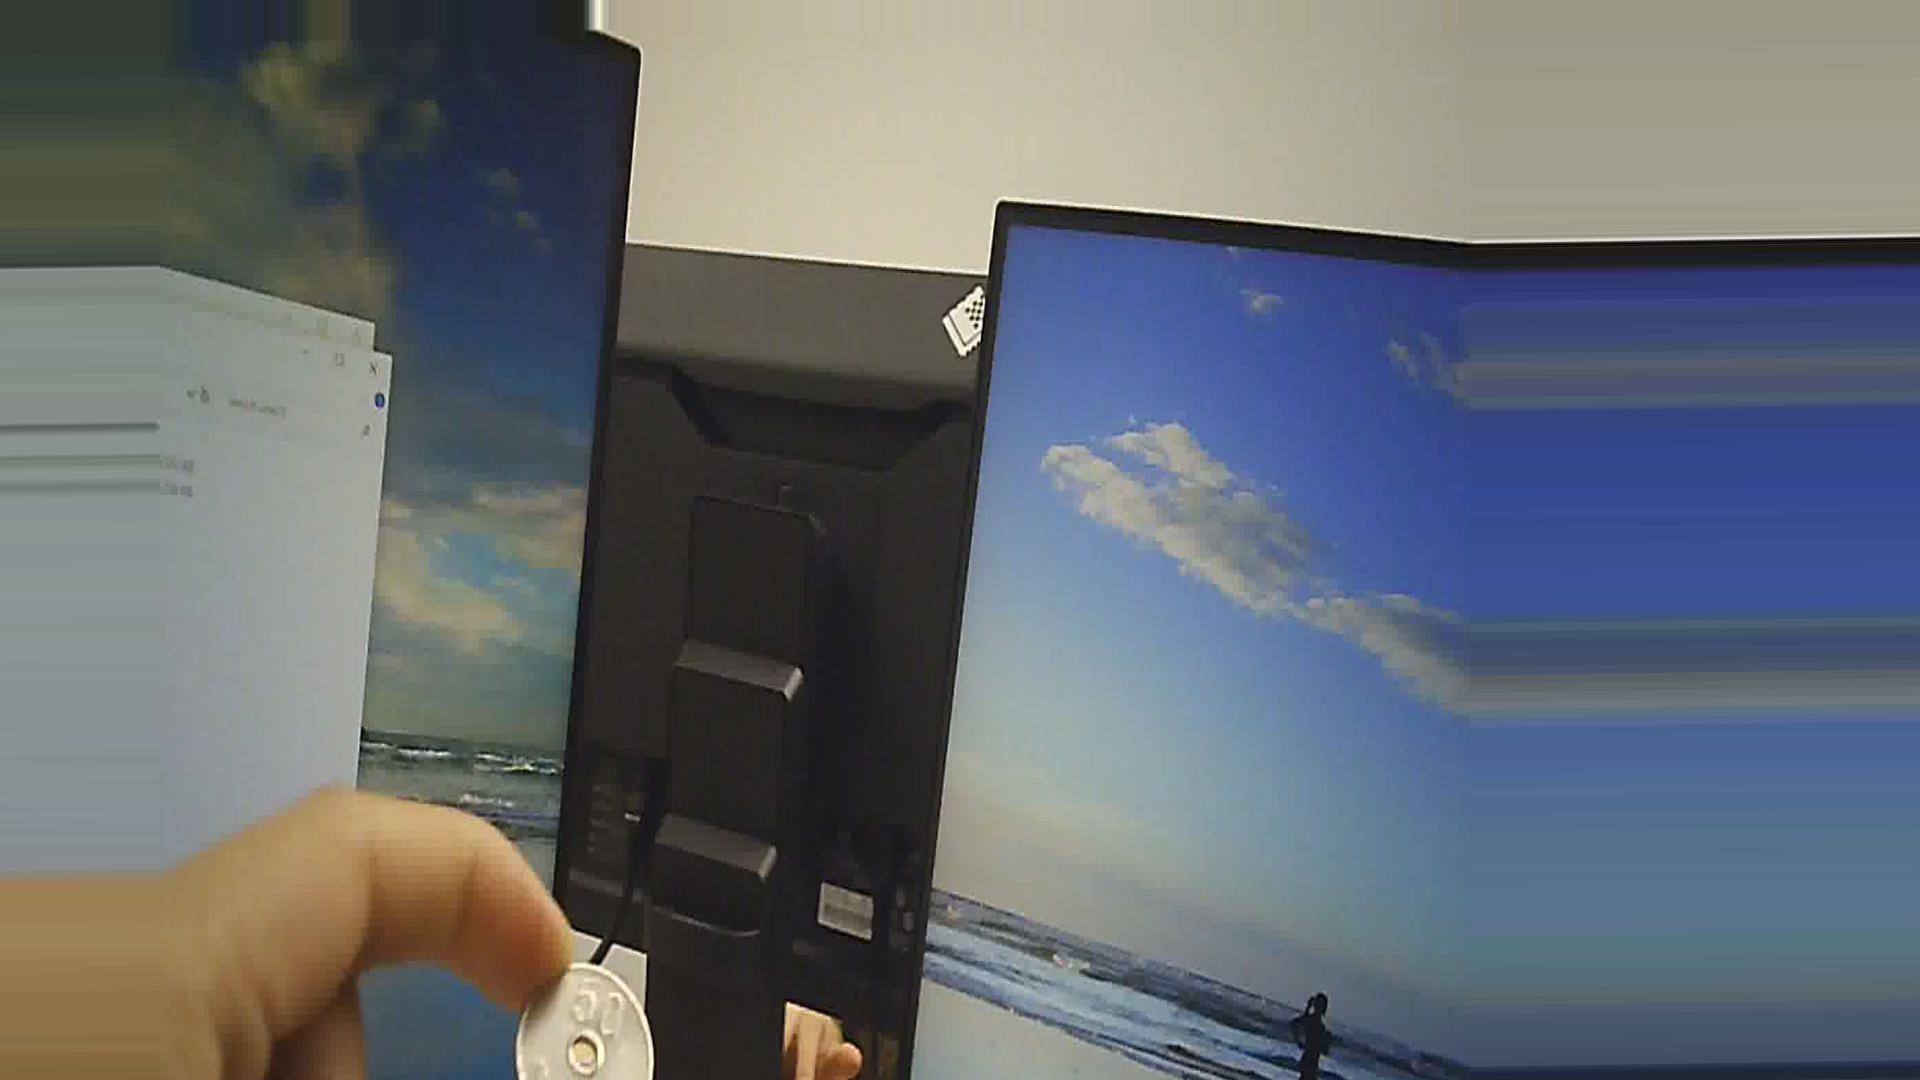50 Yen: (501, 952, 665, 1079)
